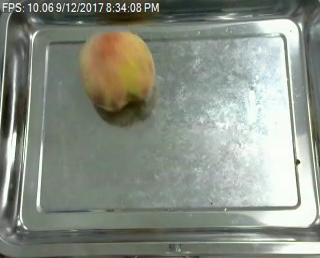Peach: (79, 30, 155, 113)
